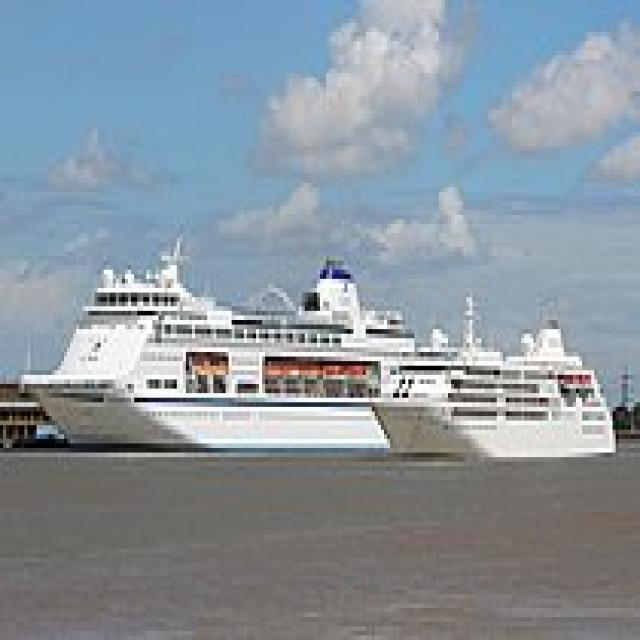Ship: (20, 244, 431, 468), (373, 285, 629, 477)
